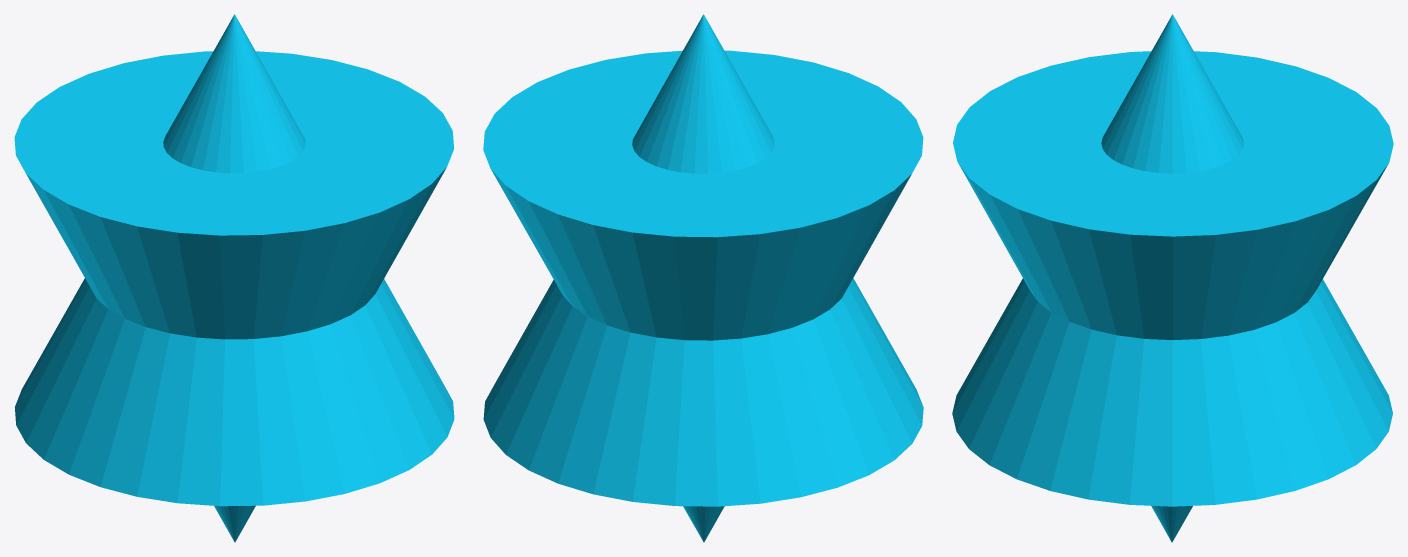
The model's file is Lvl3 target.fbx.
The picture shows the model from 3 angles, left to right: view 1: azimuth 30°, elevation 25°; view 2: azimuth 150°, elevation 25°; view 3: azimuth 270°, elevation 25°; orthographic projection.
Parts seen in each view (by area): view 1: Cone.001, Cone; view 2: Cone.001, Cone; view 3: Cone.001, Cone.
Boxes of the visible parts, <box> form: Cone.001: <box>14,51,453,542</box>; Cone: <box>15,14,454,506</box>; Cone.001: <box>483,50,923,542</box>; Cone: <box>483,14,923,506</box>; Cone.001: <box>953,51,1393,542</box>; Cone: <box>952,14,1392,506</box>.
Bounding box in the file's own units: 200 × 265 × 200.
